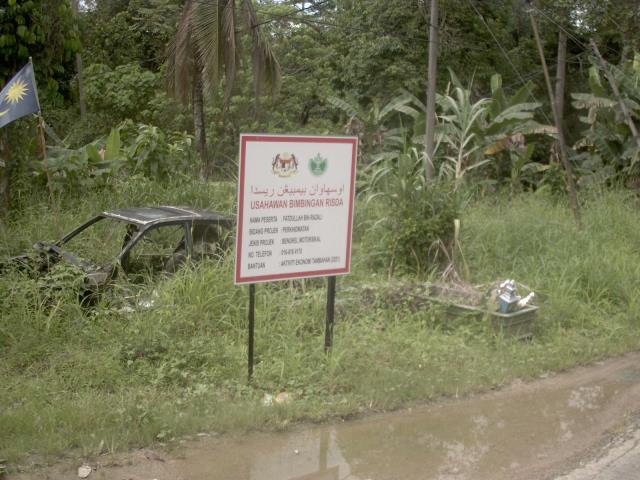ads_sign: (226, 121, 364, 296)
